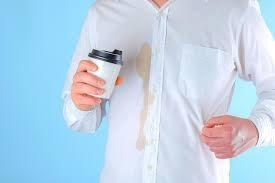coffee: (135, 43, 155, 151)
